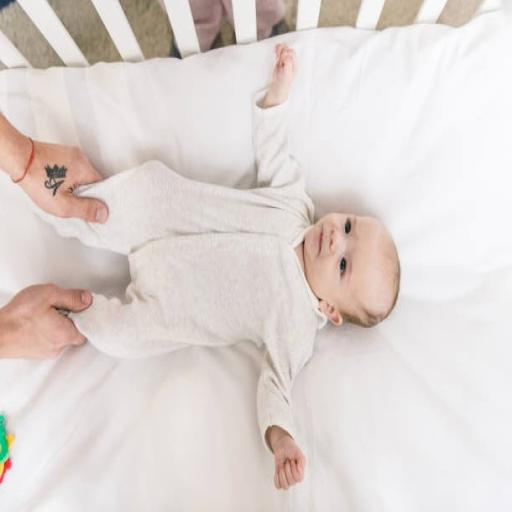baby: (49, 45, 399, 489)
crib: (0, 0, 511, 511)
